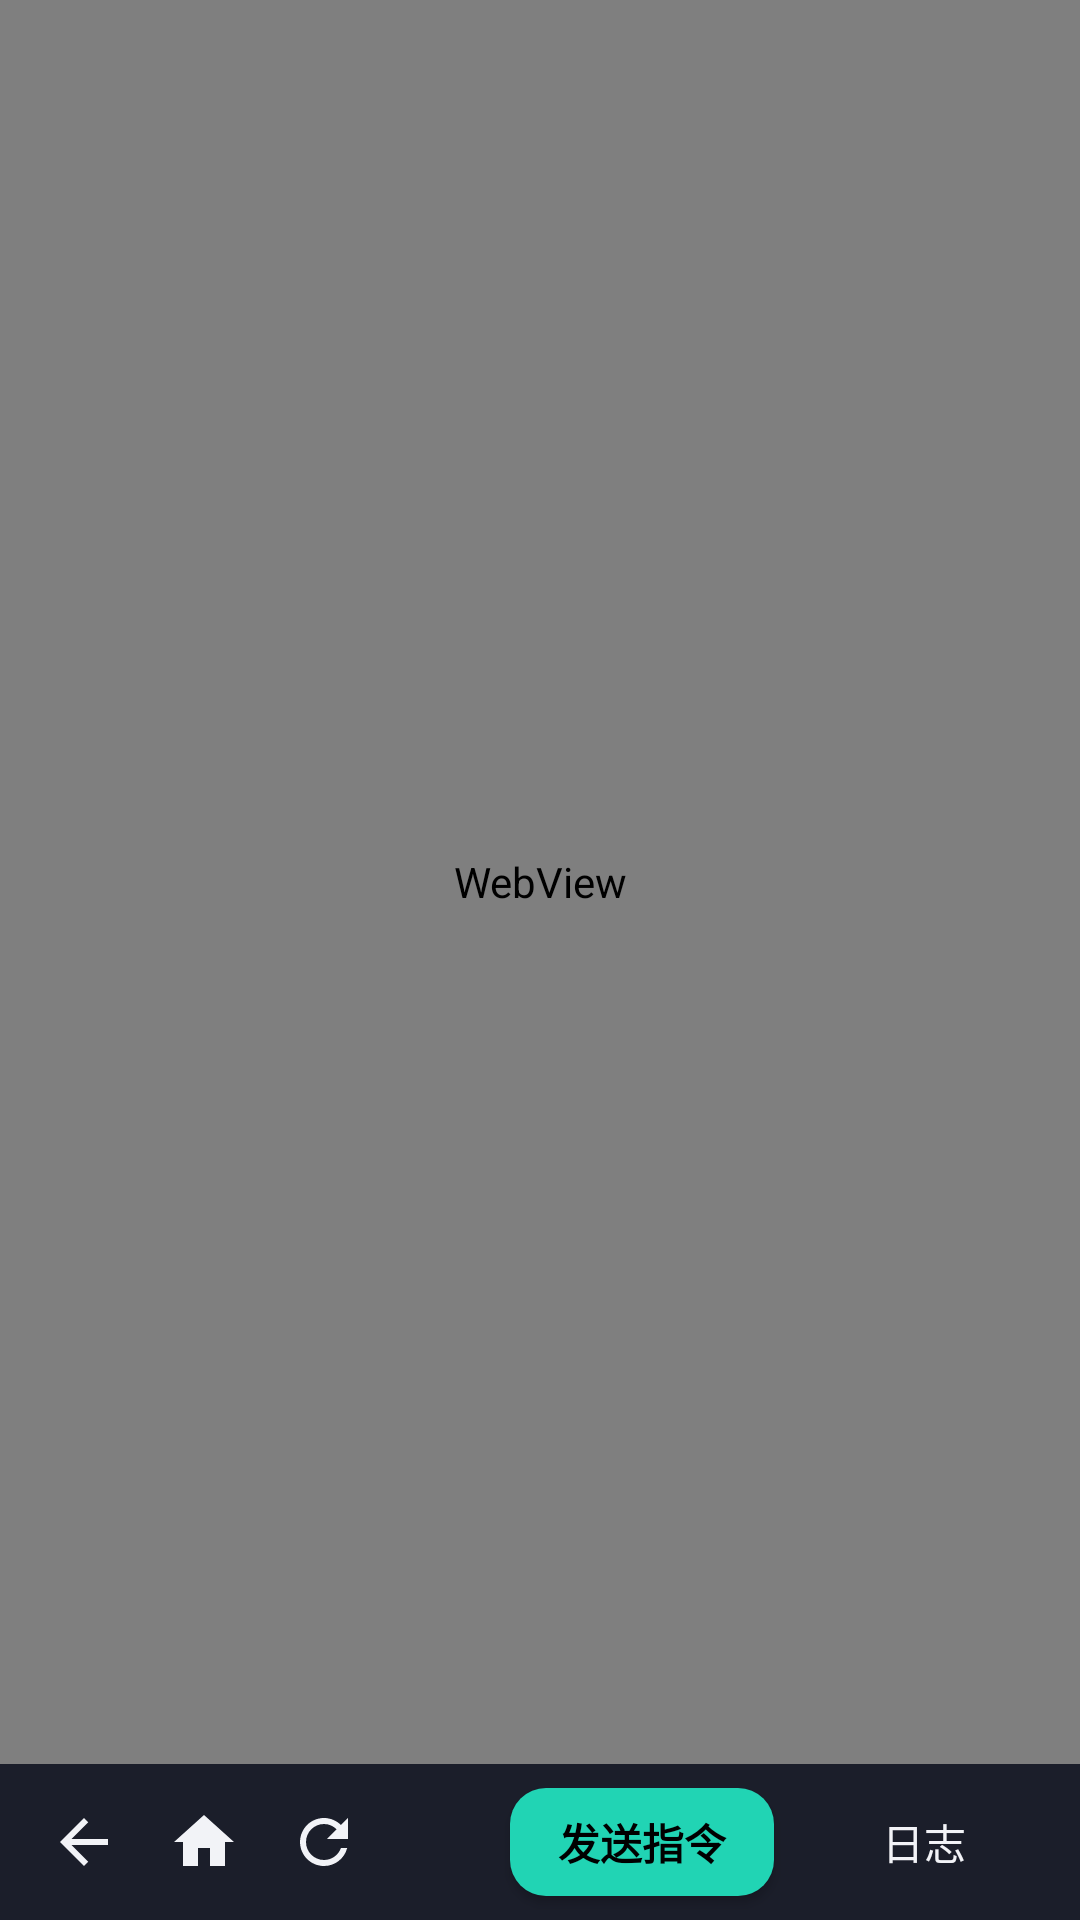

Icon bounding boxes for this 1080w x 1920h phone screenshot, format [x1, y1, x2, y2]:
主页: [174, 1815, 234, 1866]
刷新: [300, 1818, 348, 1866]
返回: [60, 1818, 108, 1866]
